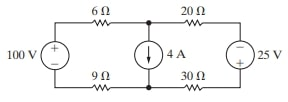current: (131, 38, 166, 72)
dc: (38, 39, 75, 72), (223, 38, 258, 72)
resistor: (181, 81, 208, 96), (89, 81, 115, 96), (89, 16, 113, 31), (179, 17, 209, 29)
